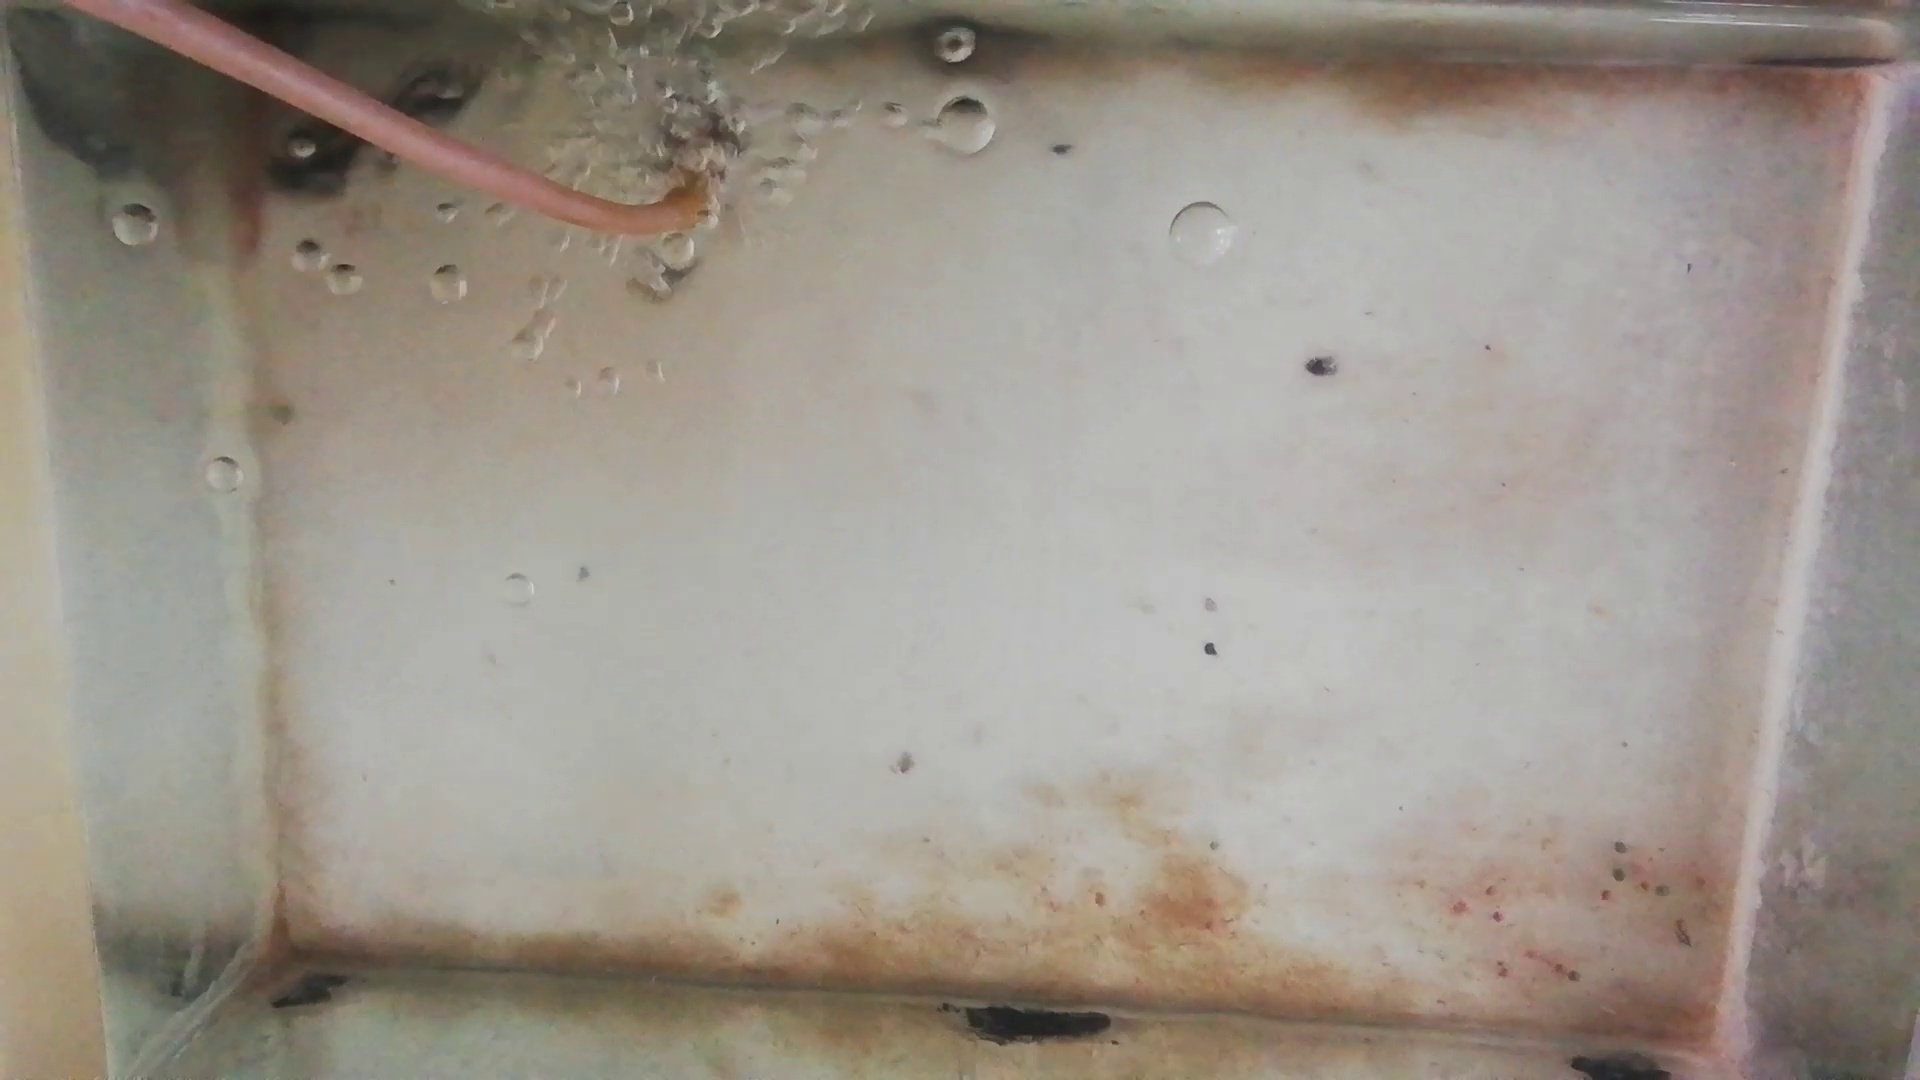fish: (262, 74, 480, 206), (224, 80, 266, 253)
